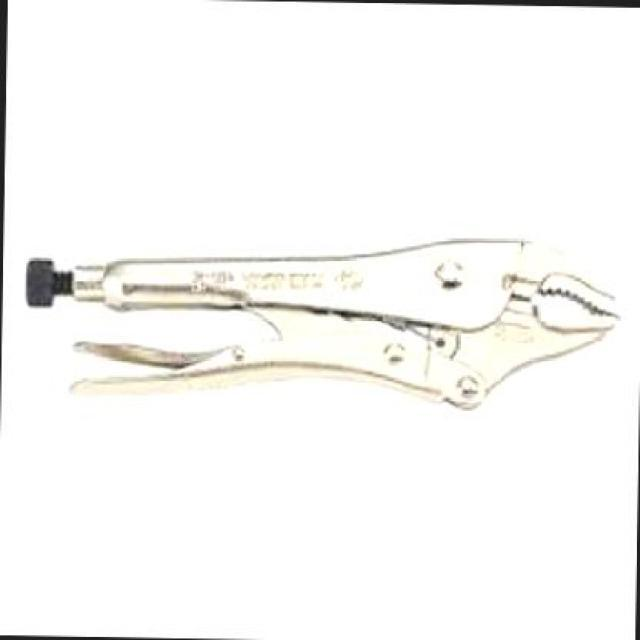pliers: (0, 178, 638, 449)
